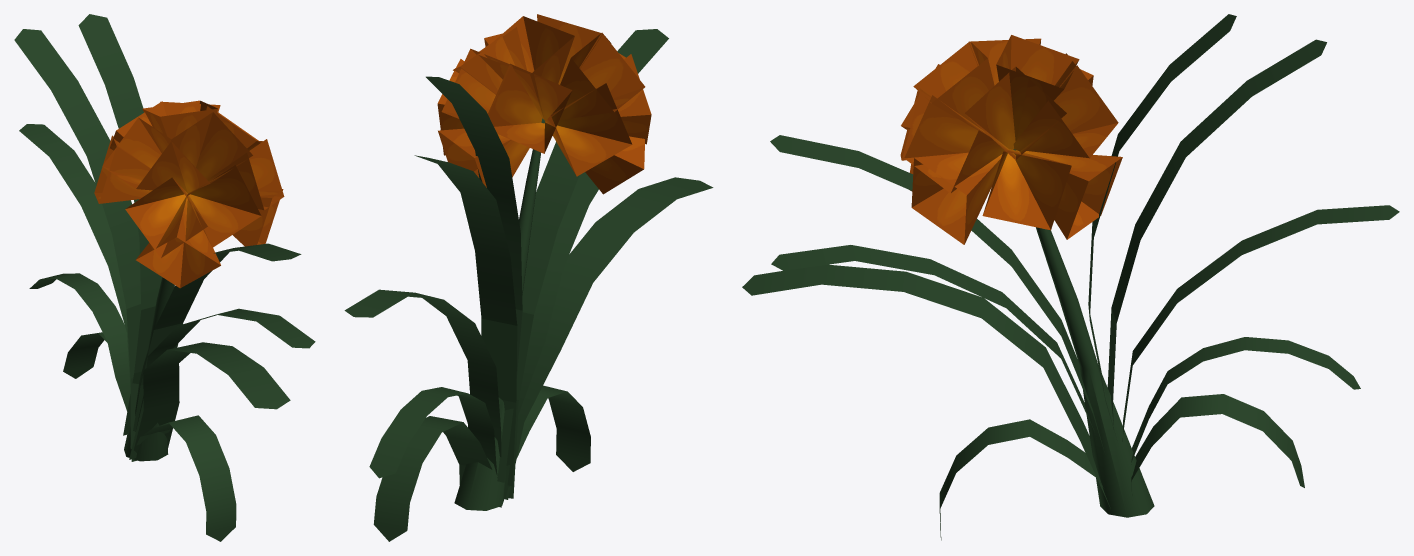
The model's file is Prop_PotPlant_01.fbx.
3 renders of one model, left to right at view 1: azimuth 30°, elevation 25°; view 2: azimuth 150°, elevation 25°; view 3: azimuth 270°, elevation 25°, orthographic. The views are drawn at different scales.
Parts seen in each view (by area): view 1: Prop_PotPlant_01; view 2: Prop_PotPlant_01; view 3: Prop_PotPlant_01.
Part boxes in pixels (box(x1,y1,x2,y2)): Prop_PotPlant_01: box(14, 14, 315, 541); Prop_PotPlant_01: box(344, 14, 713, 541); Prop_PotPlant_01: box(742, 14, 1399, 540).
Bounding box in the file's own units: 28.18 × 72.78 × 83.17.
